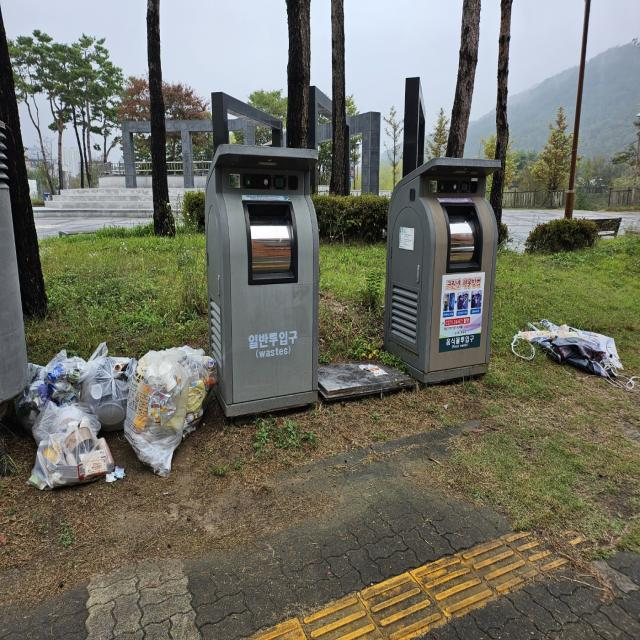CleanNet: (196, 136, 335, 426), (382, 148, 505, 392)
General Waste: (17, 340, 130, 503), (114, 346, 220, 479)
